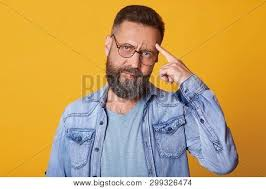white_male: (112, 28, 161, 100)
